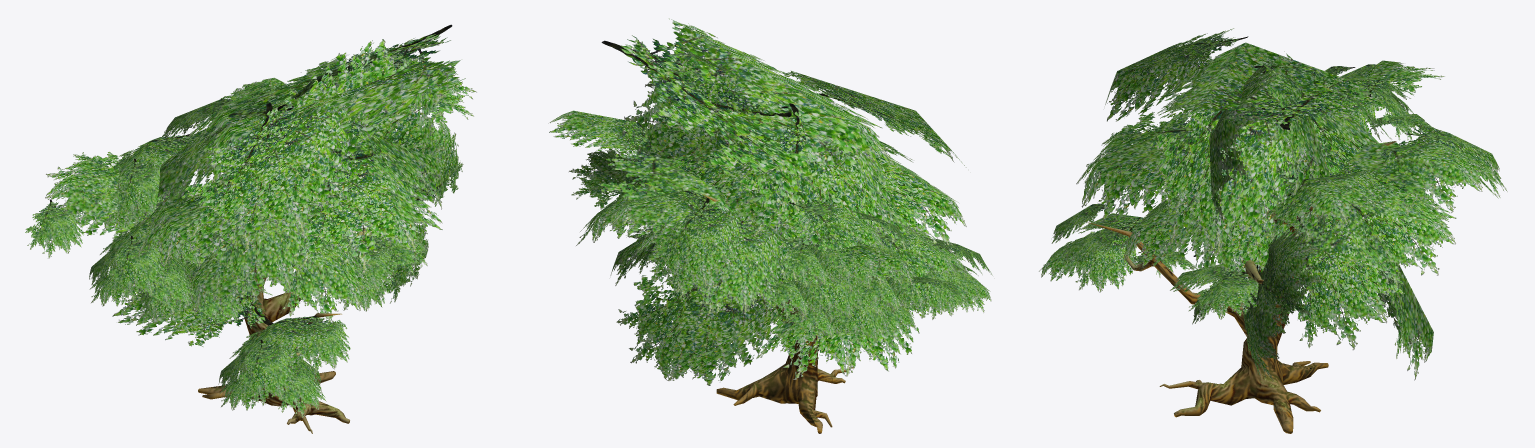
The model's file is jungle_tree_1.glb.
3 views of the same model, side by side, from view 1: azimuth 30°, elevation 25°; view 2: azimuth 150°, elevation 25°; view 3: azimuth 270°, elevation 25° (orthographic). The views are drawn at different scales.
Parts seen in each view (by area): view 1: jungle_tree_1_export.002; view 2: jungle_tree_1_export.002; view 3: jungle_tree_1_export.002.
Boxes of the visible parts, x1,y1,x2,y2 form: jungle_tree_1_export.002: (25,24,476,433); jungle_tree_1_export.002: (548,18,992,433); jungle_tree_1_export.002: (1039,28,1507,433).
Bounding box in the file's own units: 24.48 × 17.74 × 20.14.
1 material, 1 textured.
